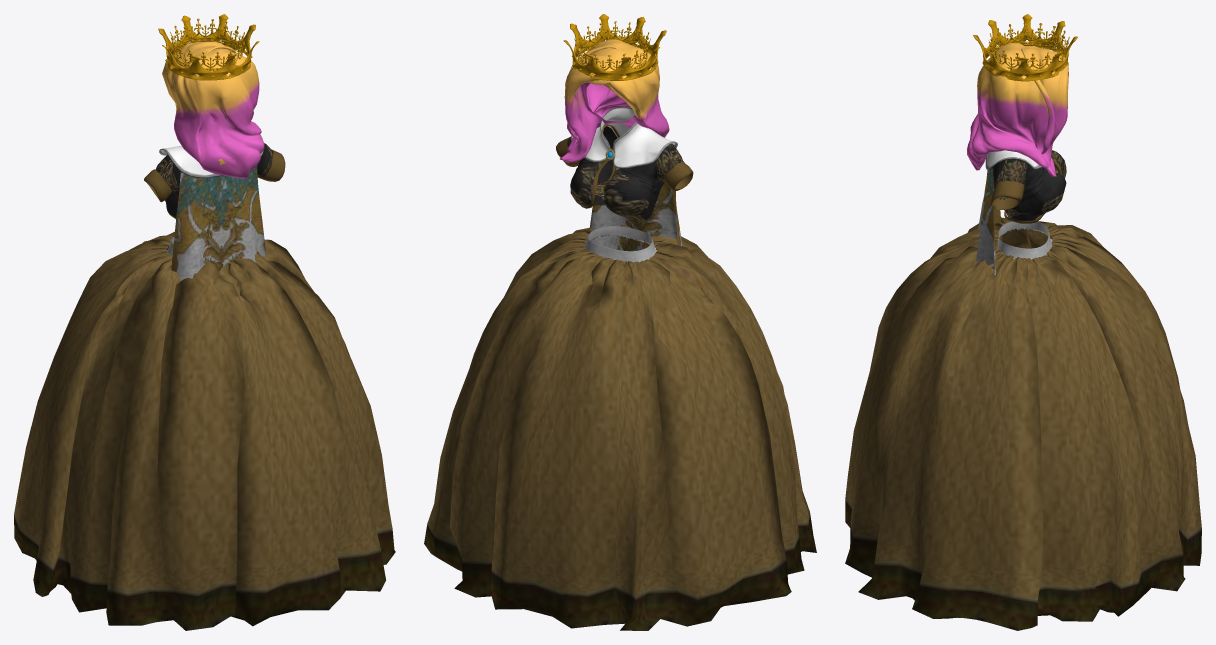
The model's file is LAST QUEEN.fbx.
The picture shows the model from 3 angles, left to right: view 1: azimuth 30°, elevation 25°; view 2: azimuth 150°, elevation 25°; view 3: azimuth 270°, elevation 25°; orthographic projection.
Parts seen in each view (by area): view 1: LAST QUEEN, gold ring, Crown 1LP_Gold_0; view 2: LAST QUEEN, gold ring, Crown 1LP_Gold_0; view 3: LAST QUEEN, gold ring, Crown 1LP_Gold_0.
Part boxes in pixels (x1,y1,x2,y2): LAST QUEEN: [14, 41, 395, 630]; gold ring: [158, 14, 259, 80]; Crown 1LP_Gold_0: [170, 18, 245, 70]; LAST QUEEN: [424, 39, 816, 630]; gold ring: [563, 14, 666, 80]; Crown 1LP_Gold_0: [574, 21, 650, 76]; LAST QUEEN: [845, 43, 1201, 630]; gold ring: [973, 14, 1077, 81]; Crown 1LP_Gold_0: [988, 22, 1069, 75].
Size of the model in its own units: 101 by 147 by 92.42.
